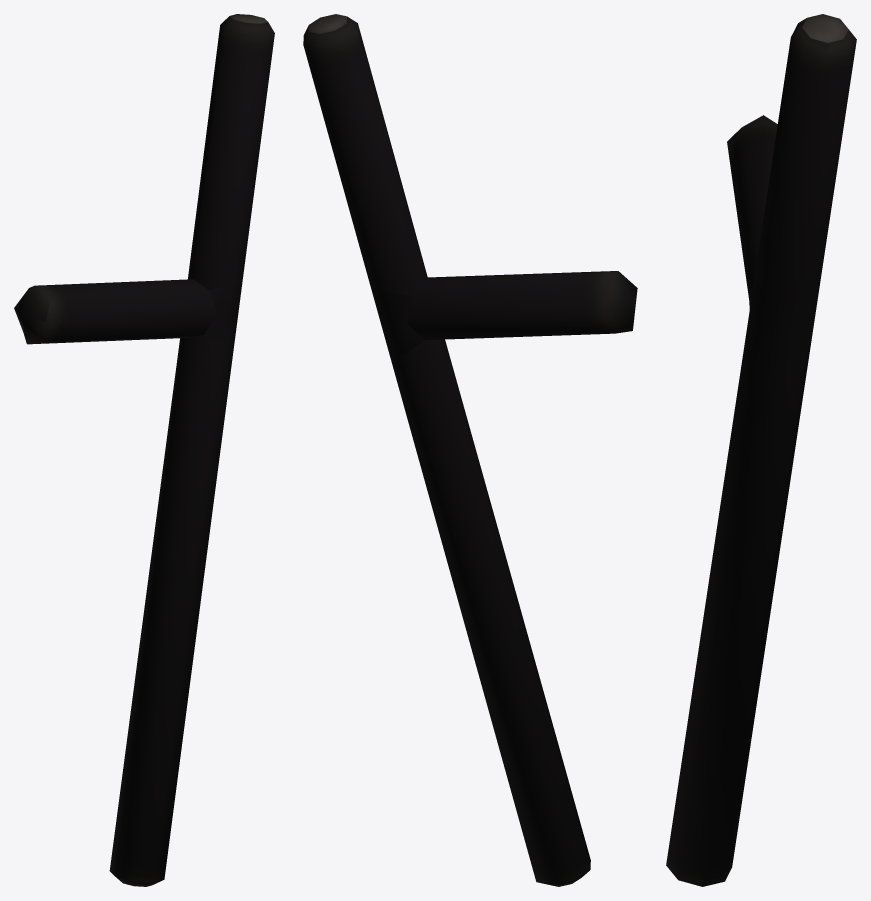
Rendered from PoliceStick.FBX.
The picture shows the model from 3 angles, left to right: view 1: azimuth 30°, elevation 25°; view 2: azimuth 150°, elevation 25°; view 3: azimuth 270°, elevation 25°; orthographic projection. The views are drawn at different scales.
Parts seen in each view (by area): view 1: Cylinder018; view 2: Cylinder018; view 3: Cylinder018.
Boxes of the visible parts, left/top/right/bottom form: Cylinder018: left=14, top=14, right=274, bottom=886; Cylinder018: left=303, top=14, right=637, bottom=886; Cylinder018: left=666, top=14, right=856, bottom=886.
Bounding box in the file's own units: 74.44 × 204 × 37.07.
Materials: 1 (1 with a texture image).
